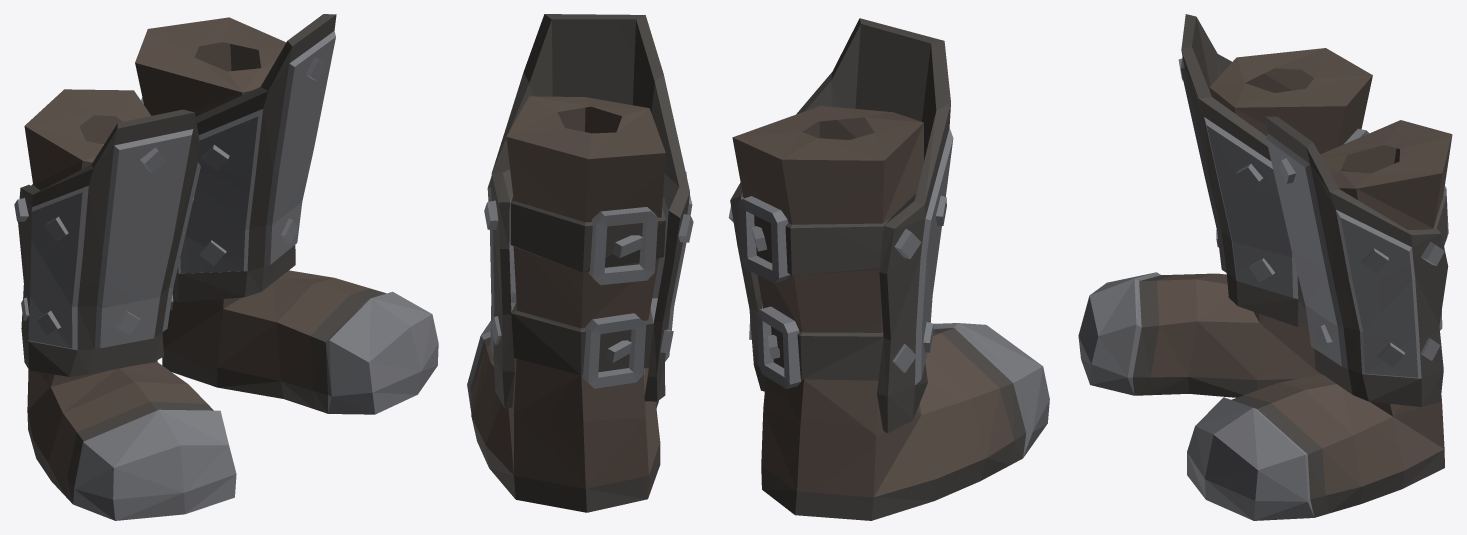
The model's file is bootsSplintGreavesDisplay.fbx.
3 renders of one model, left to right at view 1: azimuth 30°, elevation 25°; view 2: azimuth 150°, elevation 25°; view 3: azimuth 270°, elevation 25°, orthographic. The views are drawn at different scales.
Visible parts, largest first — view 1: bootsSplintGreavesDisplay; view 2: bootsSplintGreavesDisplay; view 3: bootsSplintGreavesDisplay.
Boxes of the visible parts, left/top/right/bottom form: bootsSplintGreavesDisplay: left=14, top=14, right=438, bottom=520; bootsSplintGreavesDisplay: left=467, top=14, right=1049, bottom=520; bootsSplintGreavesDisplay: left=1078, top=14, right=1452, bottom=520.
Size of the model in its own units: 1.63 by 1.32 by 1.31.
